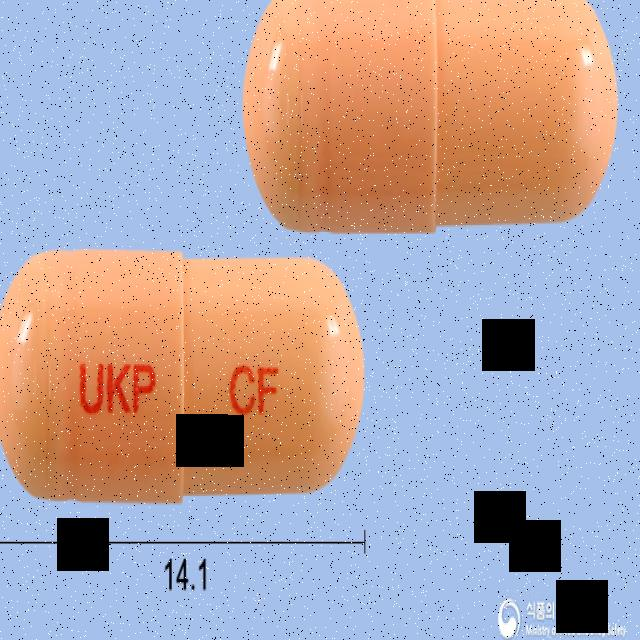Unifixime Cap: (0, 244, 364, 503)
